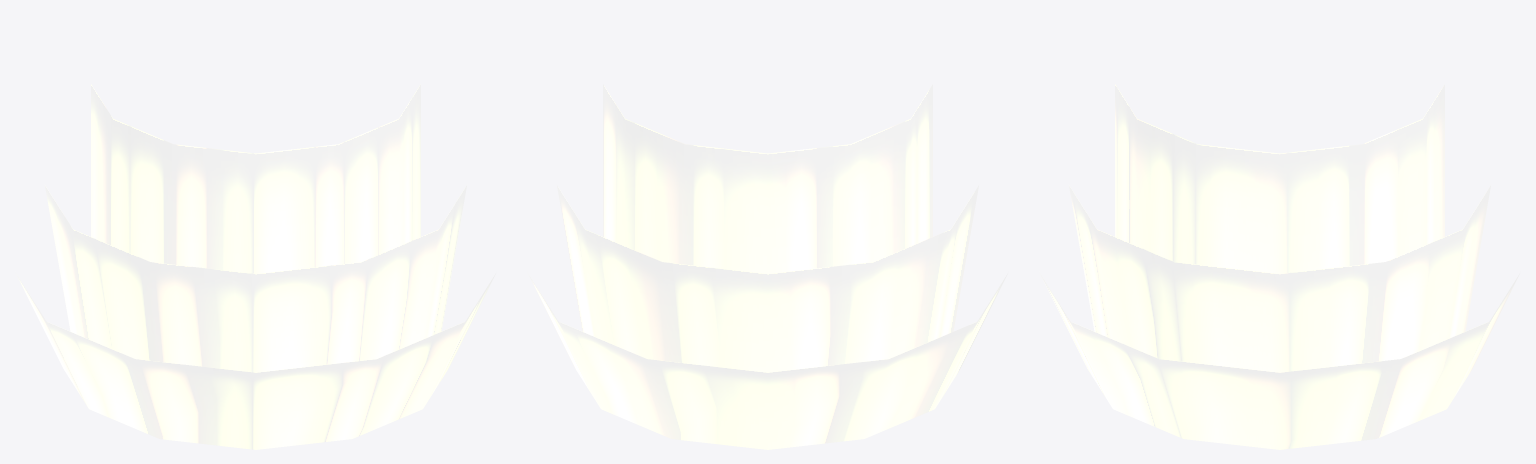
The model's file is sfx_common_condition_yellow.glb.
The picture shows the model from 3 angles, left to right: view 1: azimuth 30°, elevation 25°; view 2: azimuth 150°, elevation 25°; view 3: azimuth 270°, elevation 25°; orthographic projection.
Parts seen in each view (by area): view 1: sfx_common_condition_yellow_obj0, sfx_common_condition_yellow_obj1, sfx_common_condition_yellow_obj2; view 2: sfx_common_condition_yellow_obj0, sfx_common_condition_yellow_obj1, sfx_common_condition_yellow_obj2; view 3: sfx_common_condition_yellow_obj0, sfx_common_condition_yellow_obj1, sfx_common_condition_yellow_obj2.
Boxes of the visible parts, x1,y1,x2,y2 form: sfx_common_condition_yellow_obj0: [91, 84, 420, 273]; sfx_common_condition_yellow_obj1: [45, 185, 466, 372]; sfx_common_condition_yellow_obj2: [16, 273, 495, 449]; sfx_common_condition_yellow_obj0: [603, 84, 932, 273]; sfx_common_condition_yellow_obj1: [557, 185, 978, 372]; sfx_common_condition_yellow_obj2: [528, 273, 1007, 449]; sfx_common_condition_yellow_obj0: [1115, 84, 1444, 273]; sfx_common_condition_yellow_obj1: [1069, 185, 1490, 372]; sfx_common_condition_yellow_obj2: [1040, 273, 1519, 449].
Size of the model in its own units: 0.7606 by 0.4948 by 0.7606.
Materials: 1 (1 with a texture image).
